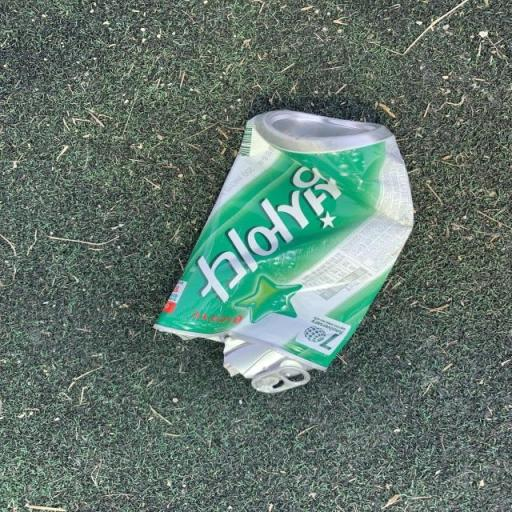metal: (118, 83, 444, 406)
